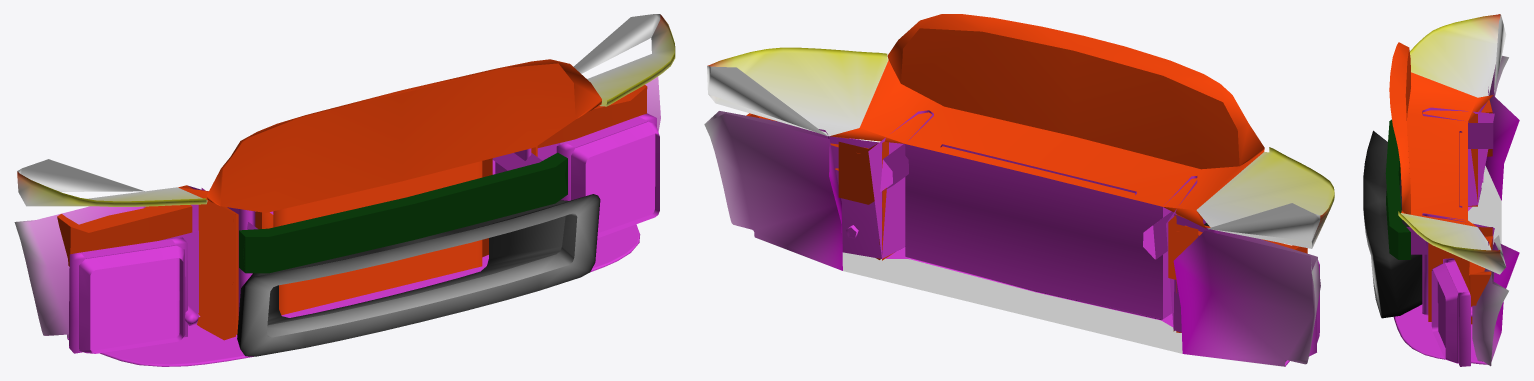
The model's file is Car_Mini_CountrymanJCW_2017_BumperChassisF_SetD_AltB.fbx.
3 views of the same model, side by side, from view 1: azimuth 30°, elevation 25°; view 2: azimuth 150°, elevation 25°; view 3: azimuth 270°, elevation 25° (orthographic). The views are drawn at different scales.
Parts seen in each view (by area): view 1: BumperChassisF 5; view 2: BumperChassisF 5; view 3: BumperChassisF 5.
Boxes of the visible parts, <box> form: BumperChassisF 5: <box>14,14,675,366</box>; BumperChassisF 5: <box>704,14,1334,366</box>; BumperChassisF 5: <box>1363,14,1519,366</box>.
Bounding box in the file's own units: 1.74 × 0.6073 × 0.4869.
